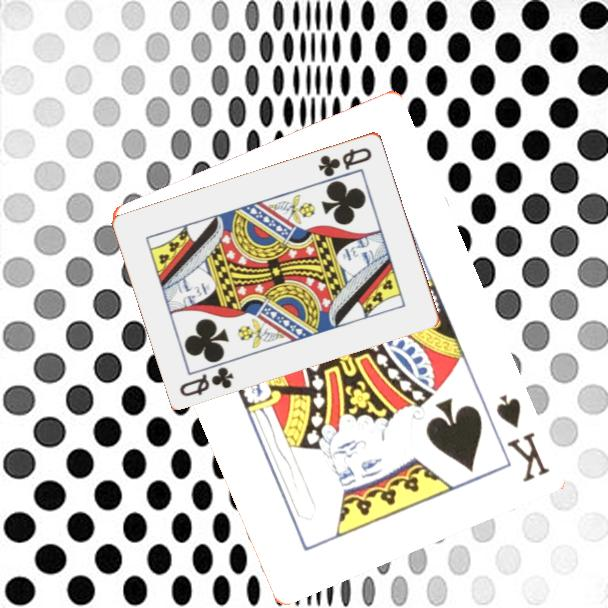c12: (176, 363, 237, 399), (315, 144, 375, 179)
s13: (491, 390, 552, 485)
